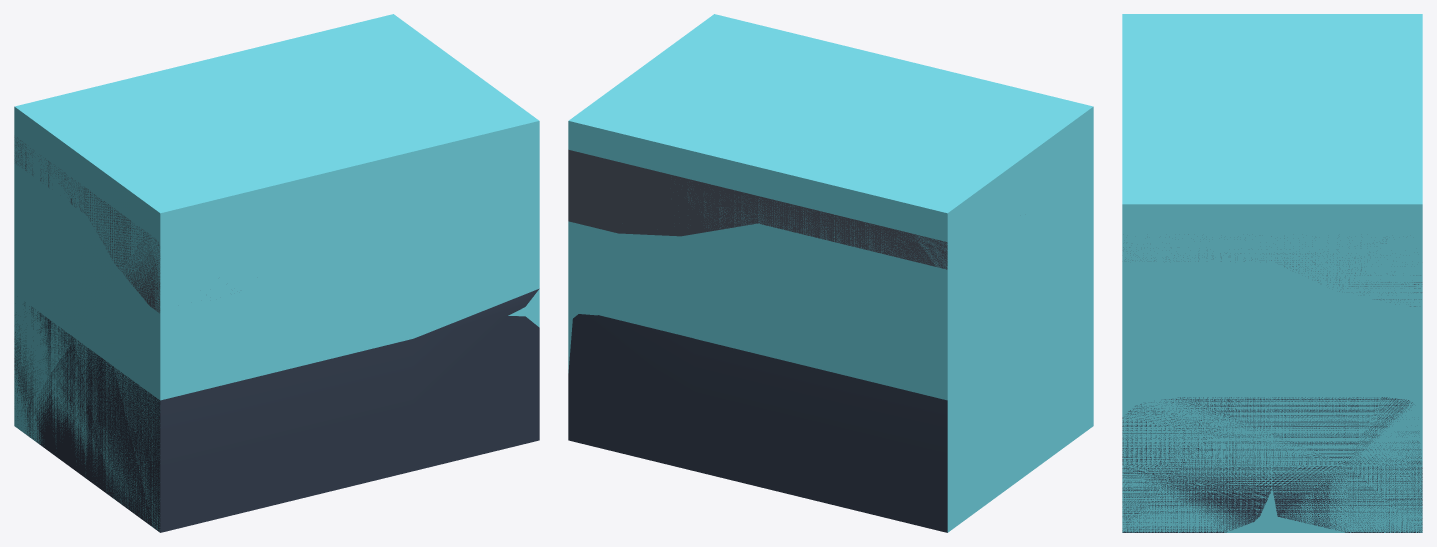
File: PBOX23_FLA_02.FBX
3 renders of one model, left to right at view 1: azimuth 30°, elevation 25°; view 2: azimuth 150°, elevation 25°; view 3: azimuth 270°, elevation 25°, orthographic. The views are drawn at different scales.
Parts seen in each view (by area): view 1: PBOX23_FLA_02, PBOX23_SUB_TAB_FlA_003, PBOX23_SUB_FLA_004; view 2: PBOX23_FLA_02, PBOX23_SUB_TAB_FlA_003, PBOX23_SUB_FLA_004; view 3: PBOX23_FLA_02, PBOX23_SUB_TAB_FlA_003.
Boxes of the visible parts, x1,y1,x2,y2 form: PBOX23_FLA_02: (14, 14, 539, 531); PBOX23_SUB_TAB_FlA_003: (14, 288, 539, 532); PBOX23_SUB_FLA_004: (14, 137, 160, 313); PBOX23_FLA_02: (568, 14, 1093, 532); PBOX23_SUB_TAB_FlA_003: (568, 314, 947, 532); PBOX23_SUB_FLA_004: (568, 149, 947, 269); PBOX23_FLA_02: (1122, 14, 1422, 532); PBOX23_SUB_TAB_FlA_003: (1122, 397, 1422, 532).
Size of the model in its own units: 18 by 14.5 by 12.
